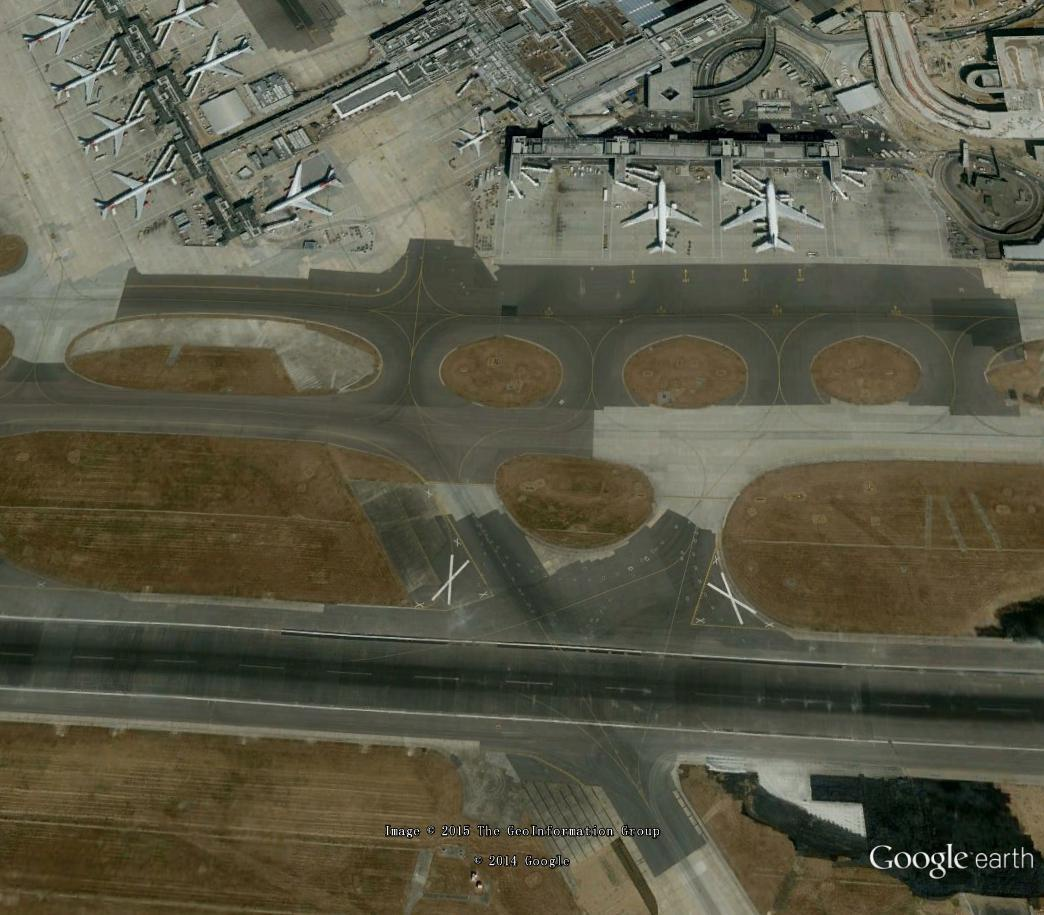aircraft: (717, 175, 829, 259), (616, 174, 709, 259), (256, 157, 351, 225), (91, 166, 181, 226), (181, 27, 259, 88), (21, 6, 99, 60), (45, 57, 120, 108), (75, 108, 150, 159), (150, 3, 217, 31)
